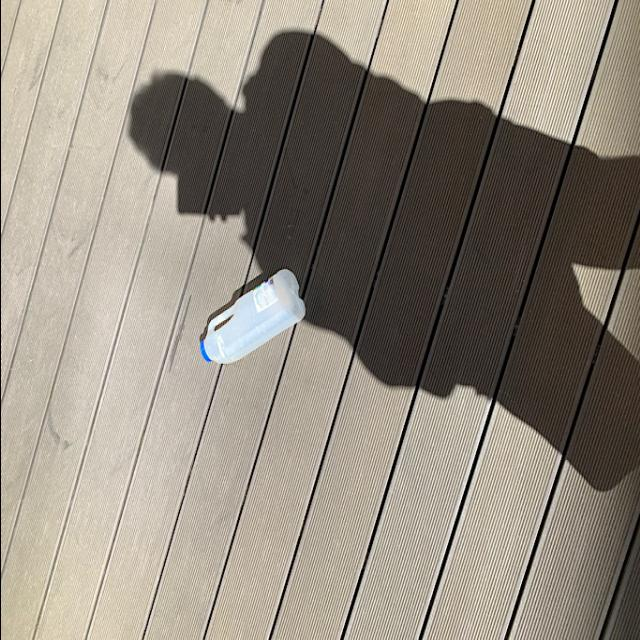HDPEM: (198, 268, 306, 368)
